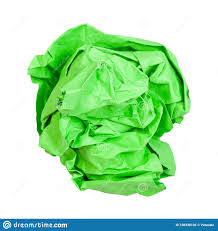crumpled paper: (23, 24, 186, 201)
